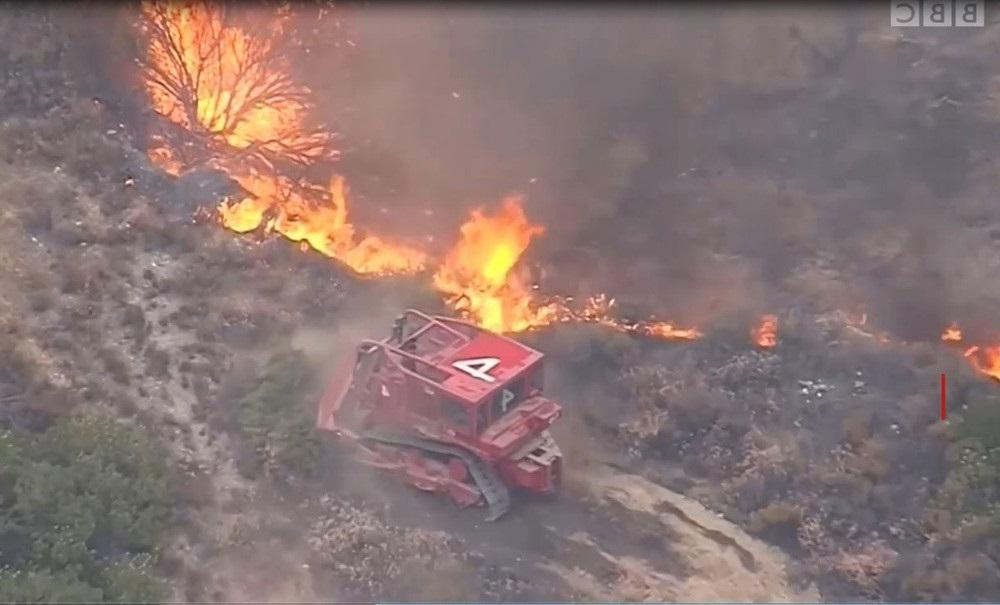Fire: (132, 6, 332, 160), (207, 166, 422, 276), (432, 195, 563, 331), (564, 293, 704, 336), (937, 323, 1000, 376), (753, 311, 785, 346)
